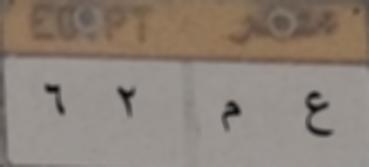2: (113, 76, 143, 119)
6: (38, 75, 70, 120)
ain: (295, 84, 335, 142)
meem: (216, 96, 243, 140)
